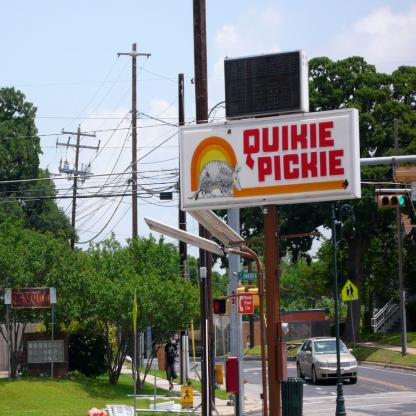Car: (295, 337, 359, 385)
